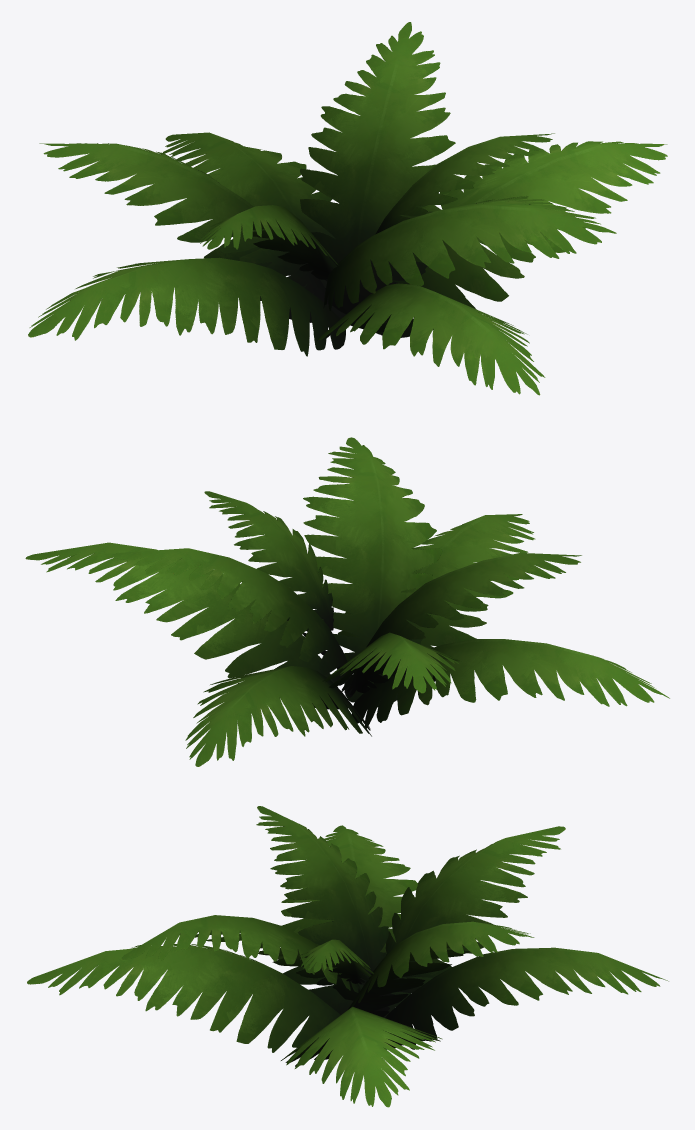
The model's file is Fern_1.gltf.
The picture shows the model from 3 angles, top to bottom: view 1: azimuth 30°, elevation 25°; view 2: azimuth 150°, elevation 25°; view 3: azimuth 270°, elevation 25°; orthographic projection. The views are drawn at different scales.
Visible parts, largest first — view 1: Fern_1; view 2: Fern_1; view 3: Fern_1.
Boxes of the visible parts, x1,y1,x2,y2 form: Fern_1: (28, 22, 667, 395); Fern_1: (25, 437, 669, 766); Fern_1: (27, 806, 668, 1107).
Bounding box in the file's own units: 2.83 × 0.8402 × 2.65.
Materials: 1 (1 with a texture image).
